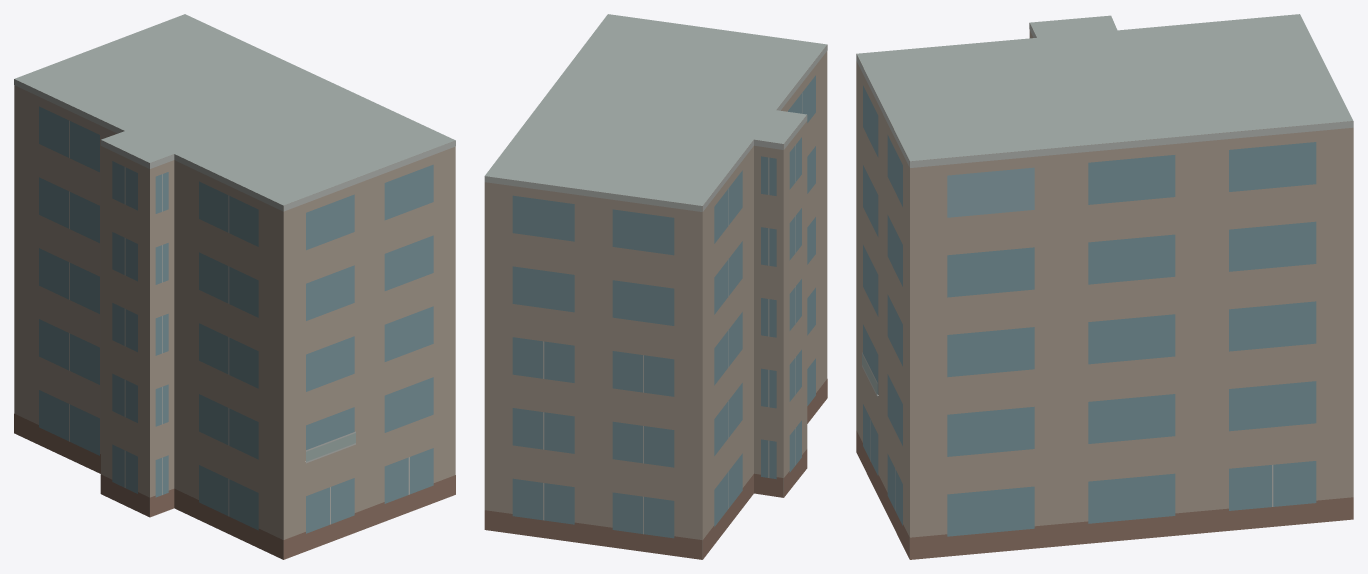
The model's file is survey-upis-32987488.glb.
The picture shows the model from 3 angles, left to right: view 1: azimuth 30°, elevation 25°; view 2: azimuth 150°, elevation 25°; view 3: azimuth 270°, elevation 25°; orthographic projection. The views are drawn at different scales.
Parts seen in each view (by area): view 1: survey-upis-32987488.tmp; view 2: survey-upis-32987488.tmp; view 3: survey-upis-32987488.tmp.
Boxes of the visible parts, x1=… form: survey-upis-32987488.tmp: x1=14, y1=14, x2=455, y2=559; survey-upis-32987488.tmp: x1=484, y1=14, x2=827, y2=559; survey-upis-32987488.tmp: x1=856, y1=14, x2=1353, y2=559.
Size of the model in its own units: 11.26 by 14.2 by 16.06.
